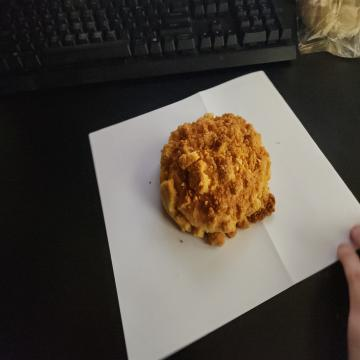soboru_bread: (156, 112, 277, 244)
